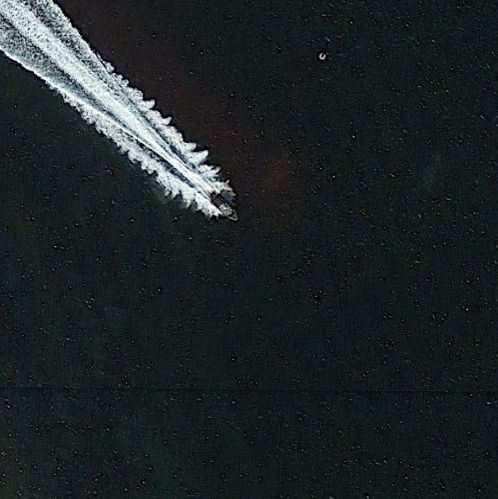boat: (201, 184, 243, 225)
